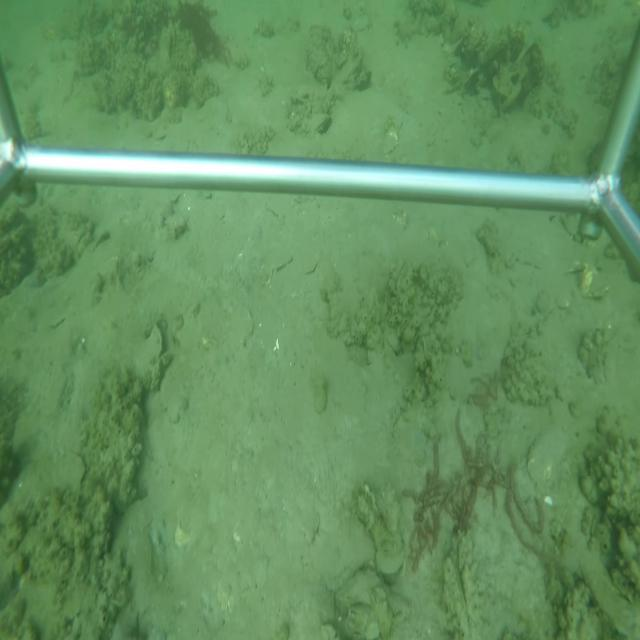Oyster-Closed: (336, 47, 364, 92), (312, 113, 332, 134), (461, 68, 479, 91)
Oyster-Indeterminate: (335, 567, 394, 637), (526, 430, 568, 486), (139, 318, 164, 393)
Oyster-Open: (373, 544, 409, 587)
